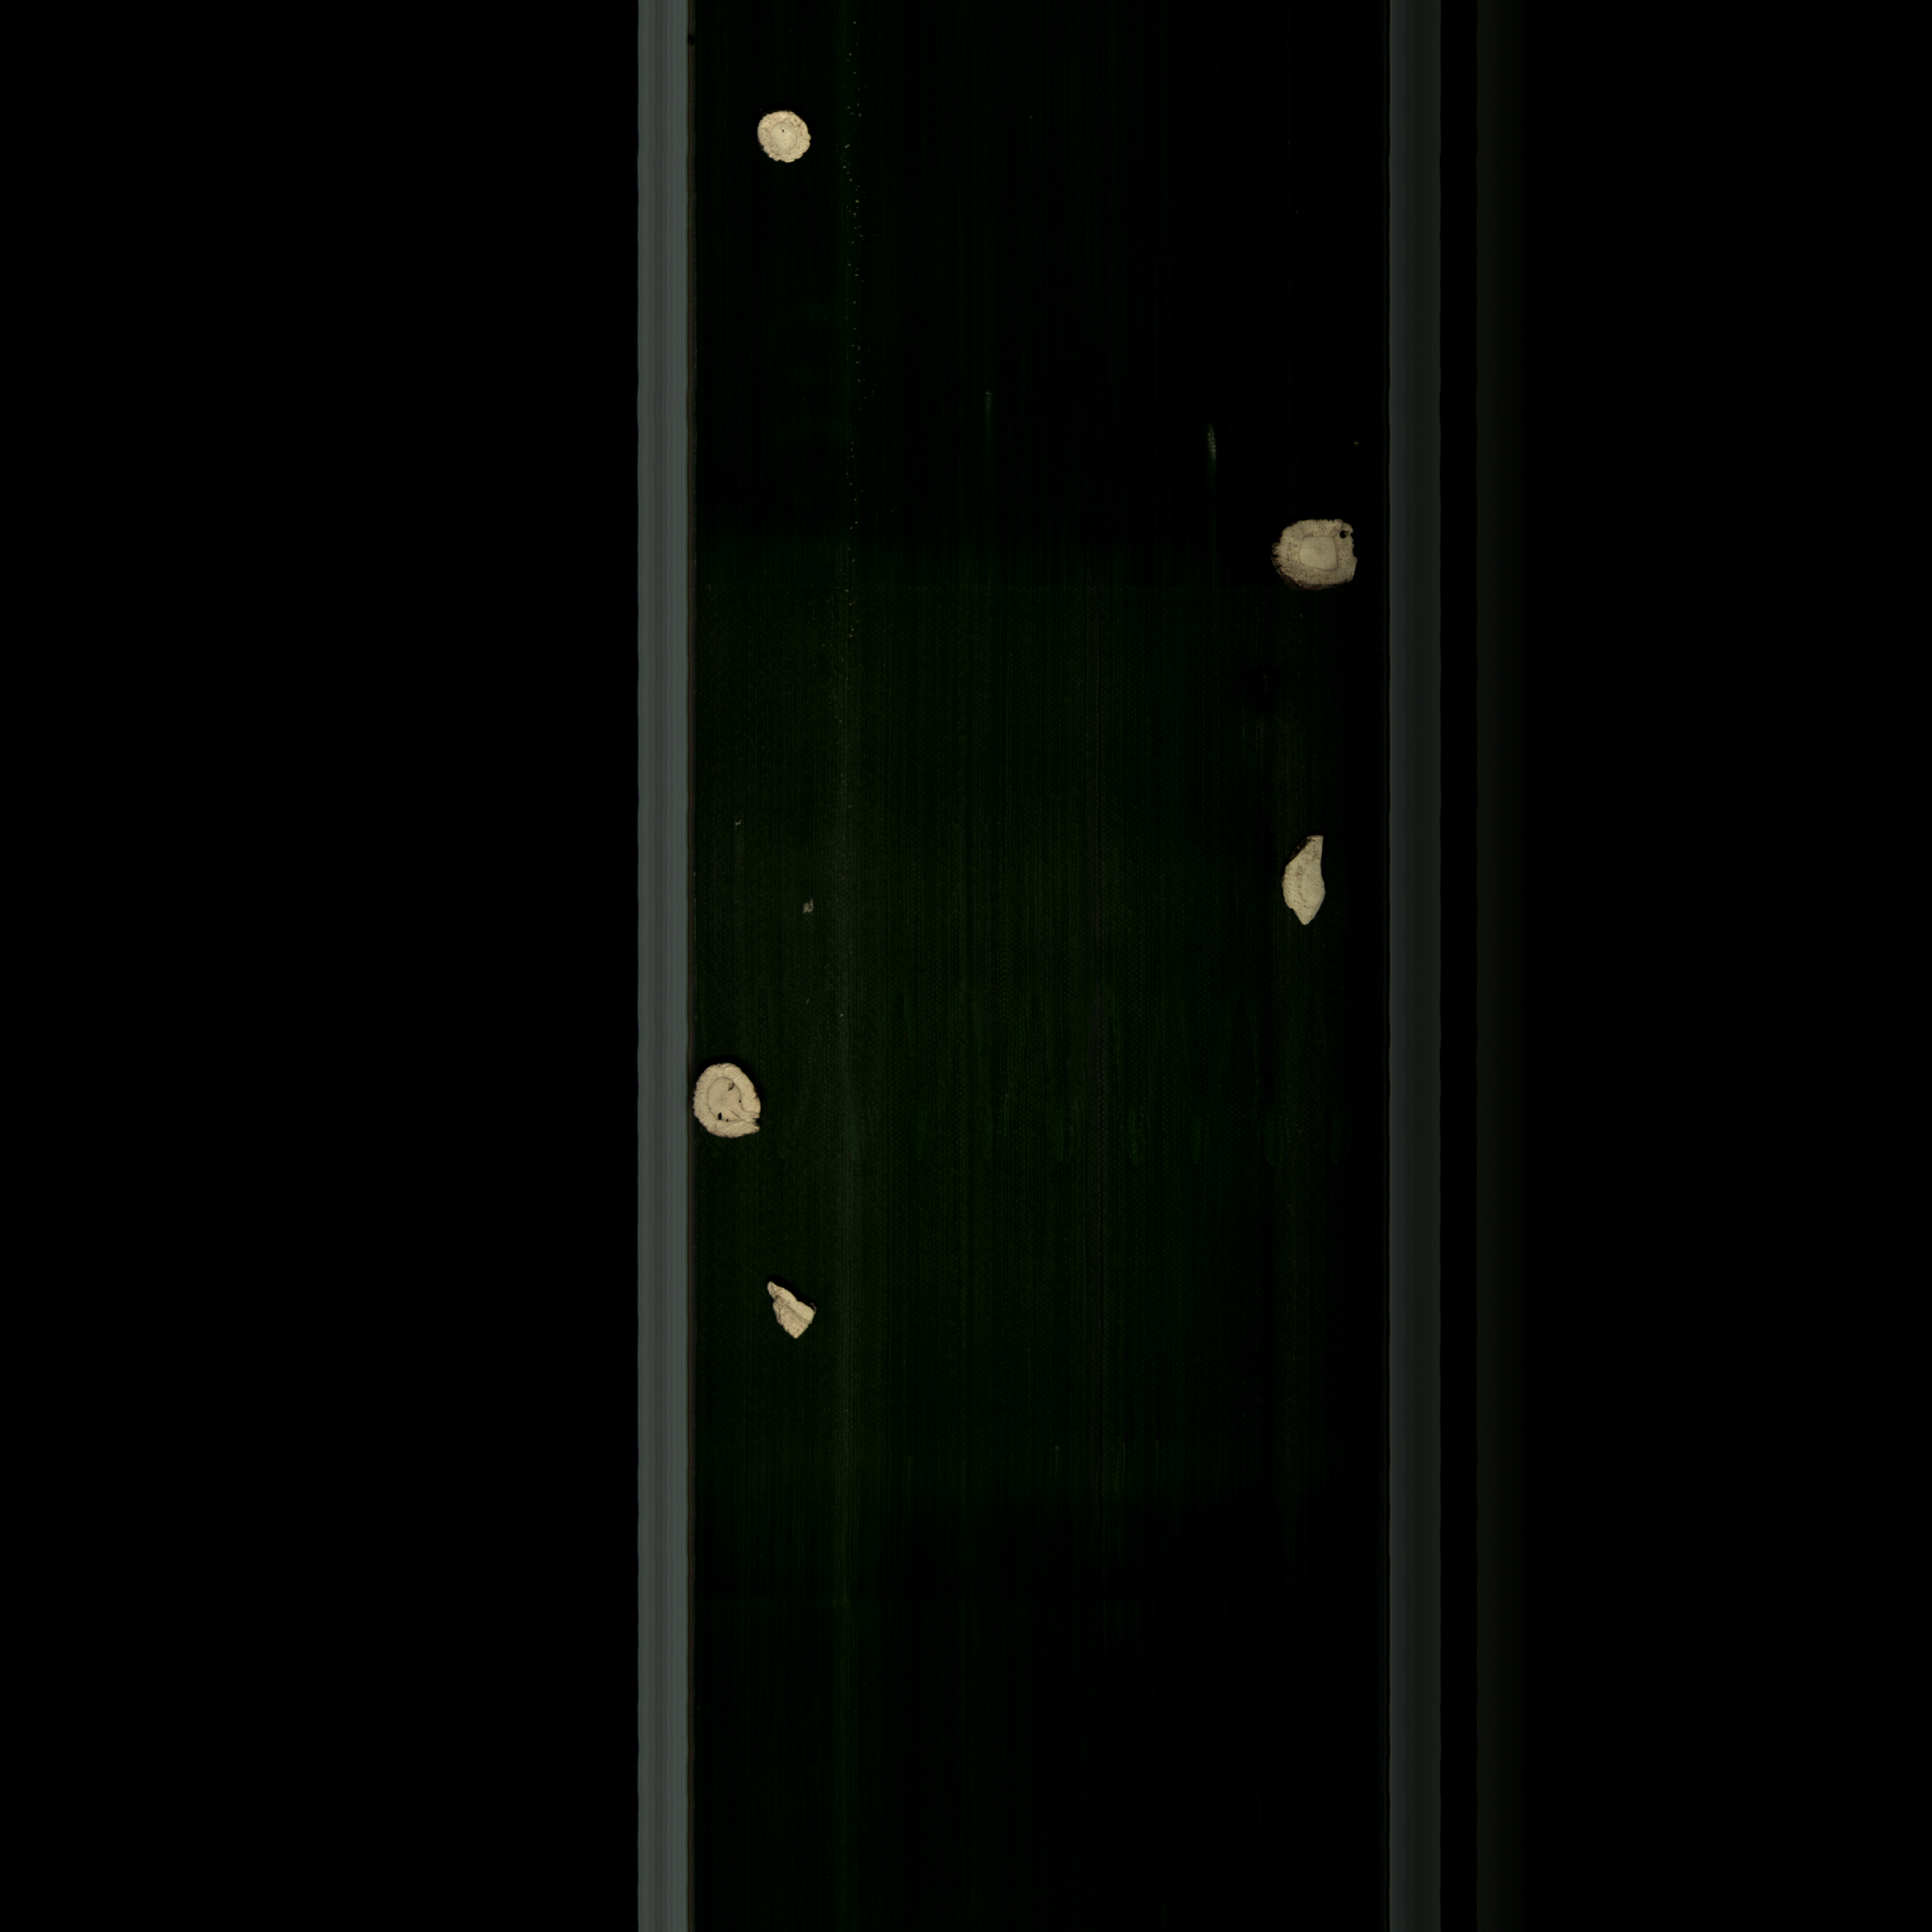debris: (1270, 826, 1343, 936)
dreg: (750, 1276, 842, 1353)
hole: (1260, 513, 1387, 602), (694, 1058, 770, 1148)
